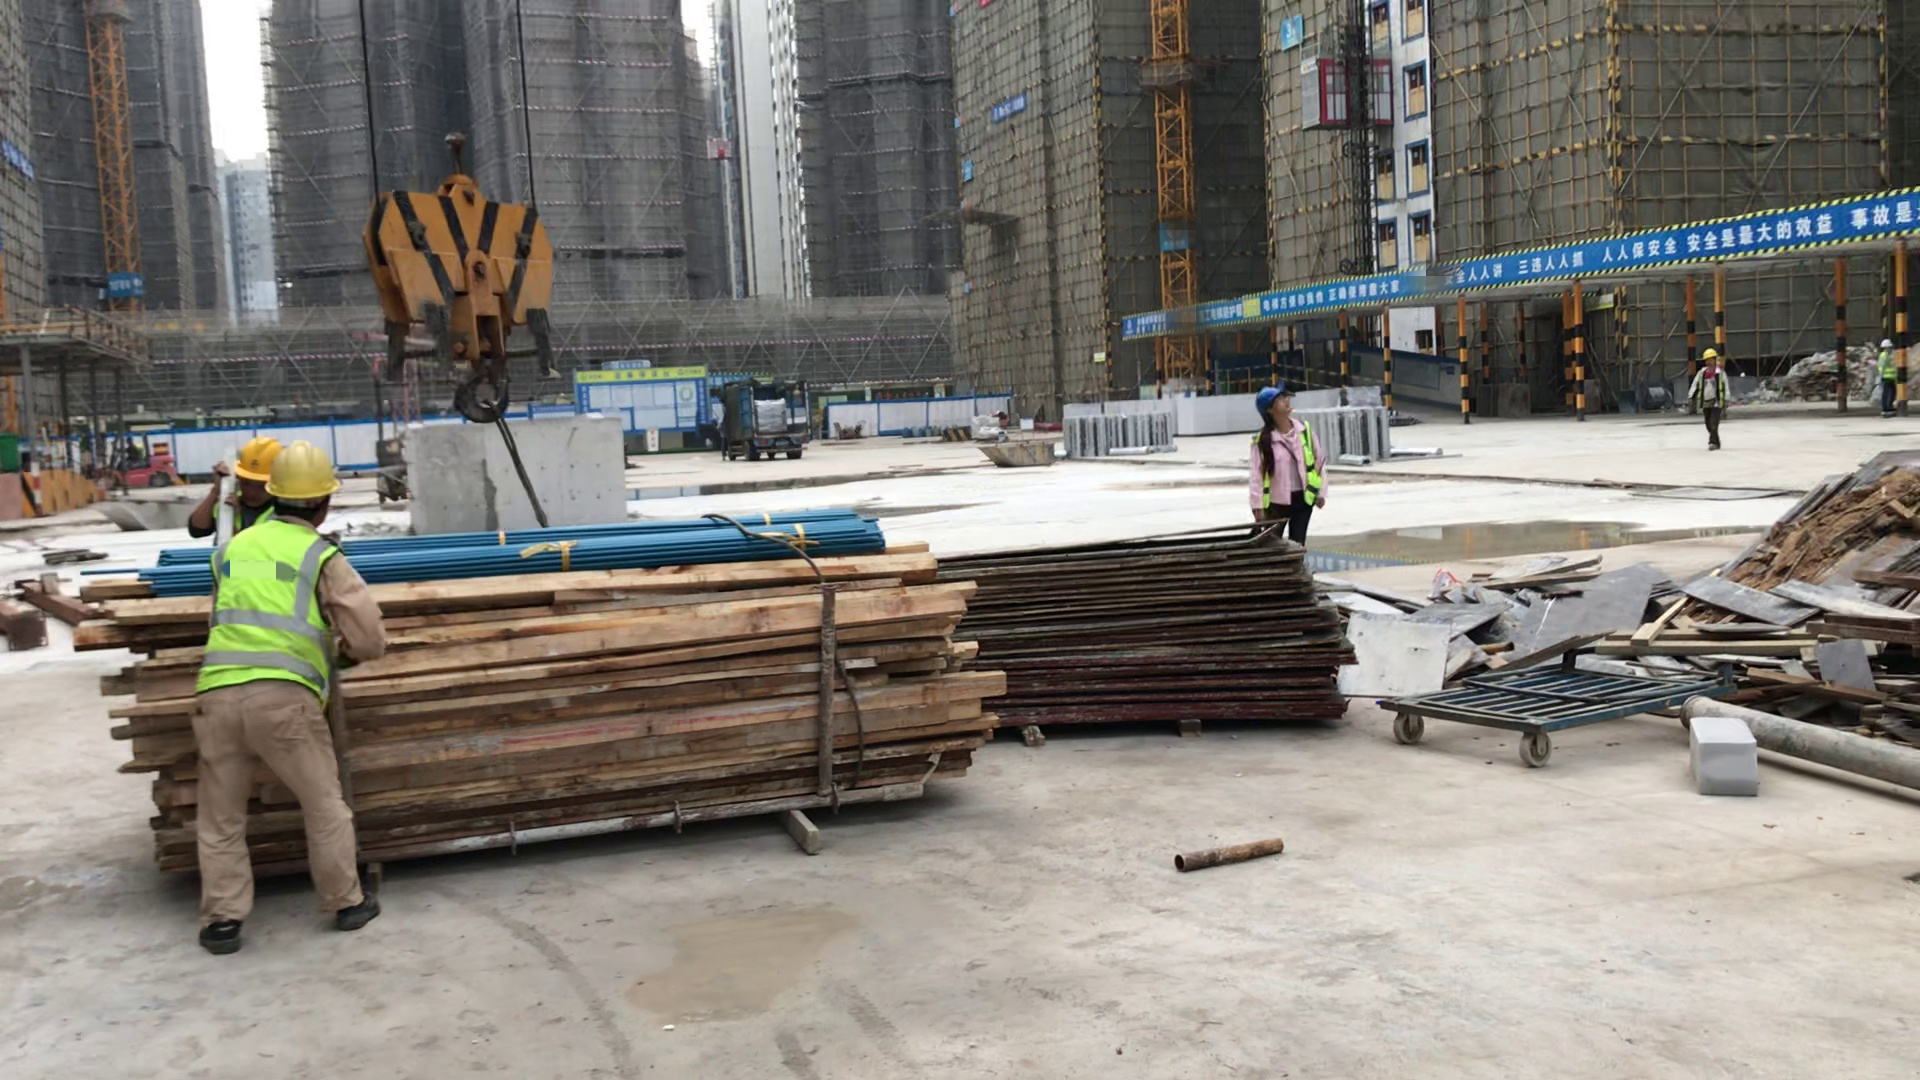board: (957, 542, 1357, 739)
brick: (1175, 398, 1256, 437)
handcart: (1388, 657, 1726, 761)
helmet: (234, 436, 340, 506), (1257, 386, 1303, 412), (1698, 348, 1722, 362), (1878, 337, 1897, 349)
hook: (374, 139, 563, 416)
hopper: (81, 486, 207, 529), (985, 432, 1058, 475)
person: (199, 439, 369, 962), (1251, 387, 1328, 545), (1681, 340, 1734, 454), (1869, 332, 1902, 423), (117, 433, 148, 464)
slogan: (983, 92, 1027, 135), (103, 267, 150, 304)
vest: (213, 522, 333, 697), (1292, 417, 1324, 510), (1693, 369, 1727, 412), (1876, 349, 1896, 380)
wood: (353, 541, 954, 858)
